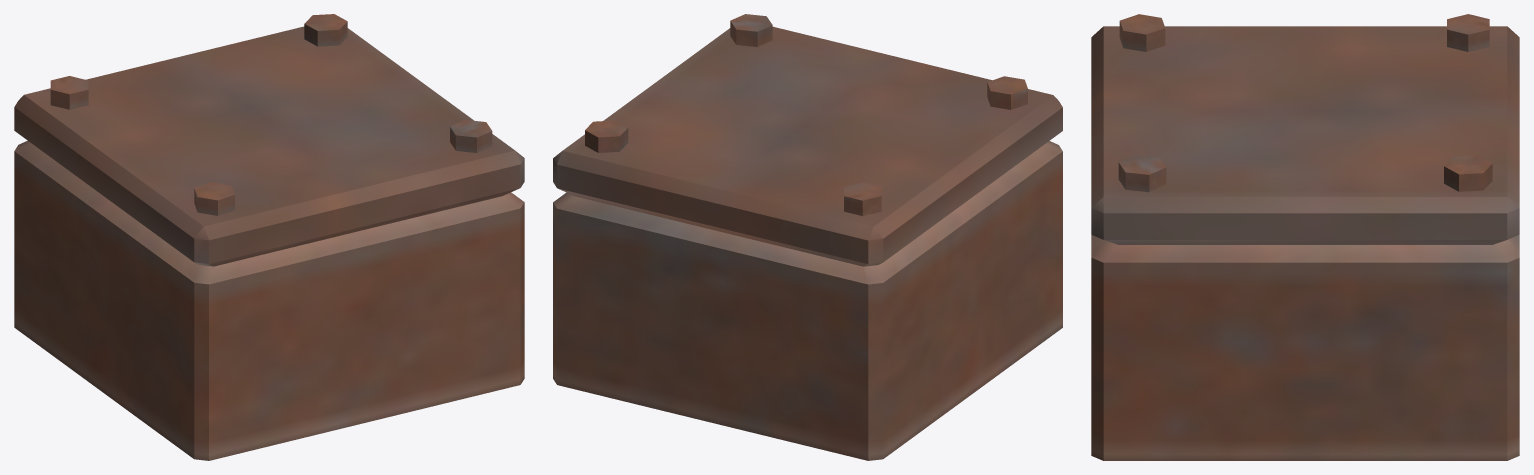
The model's file is welder_girder_base.dae.
3 renders of one model, left to right at view 1: azimuth 30°, elevation 25°; view 2: azimuth 150°, elevation 25°; view 3: azimuth 270°, elevation 25°, orthographic. The views are drawn at different scales.
Parts seen in each view (by area): view 1: welder_girder_base; view 2: welder_girder_base; view 3: welder_girder_base.
Part boxes in pixels (box(x1,y1,x2,y2)): welder_girder_base: box(14, 14, 524, 460); welder_girder_base: box(553, 14, 1062, 460); welder_girder_base: box(1091, 14, 1519, 460).
Size of the model in its own units: 0.375 by 0.2668 by 0.375.
